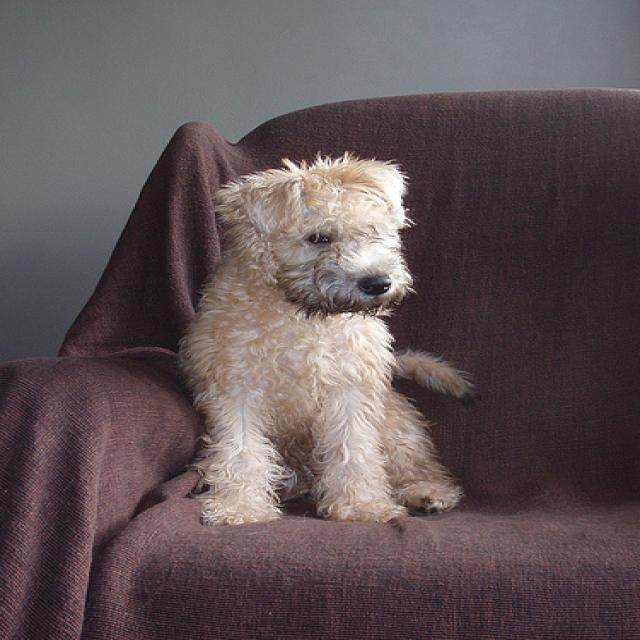dog-wheaten_terrier: (174, 157, 483, 529)
